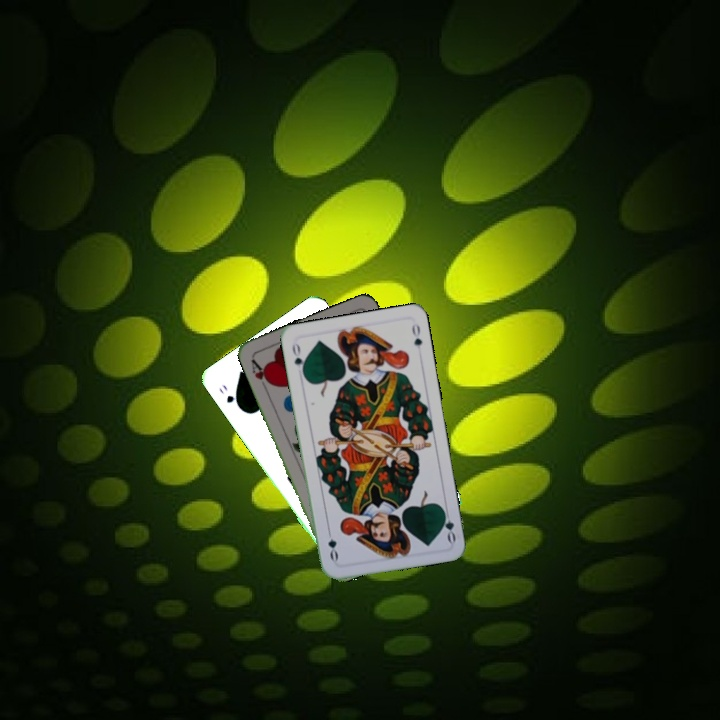GO: (215, 380, 244, 412), (438, 504, 458, 545), (288, 339, 308, 378)
HA: (247, 355, 274, 393)
